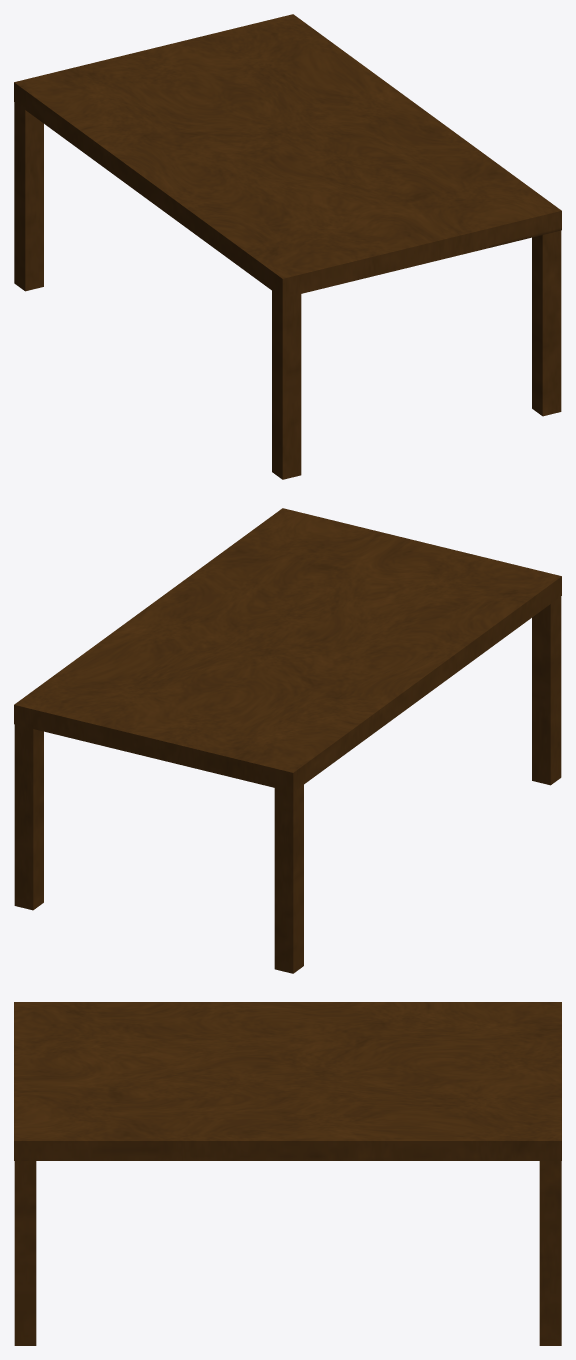
Rendered from woodGrainTable.fbx.
3 renders of one model, top to bottom at view 1: azimuth 30°, elevation 25°; view 2: azimuth 150°, elevation 25°; view 3: azimuth 270°, elevation 25°, orthographic.
Parts seen in each view (by area): view 1: Cube.002; view 2: Cube.002; view 3: Cube.002.
Boxes of the visible parts, x1,y1,x2,y2 form: Cube.002: [14, 14, 561, 479]; Cube.002: [14, 508, 561, 973]; Cube.002: [14, 1002, 561, 1345].
Bounding box in the file's own units: 600 × 413 × 1000.
Materials: 1 (1 with a texture image).
